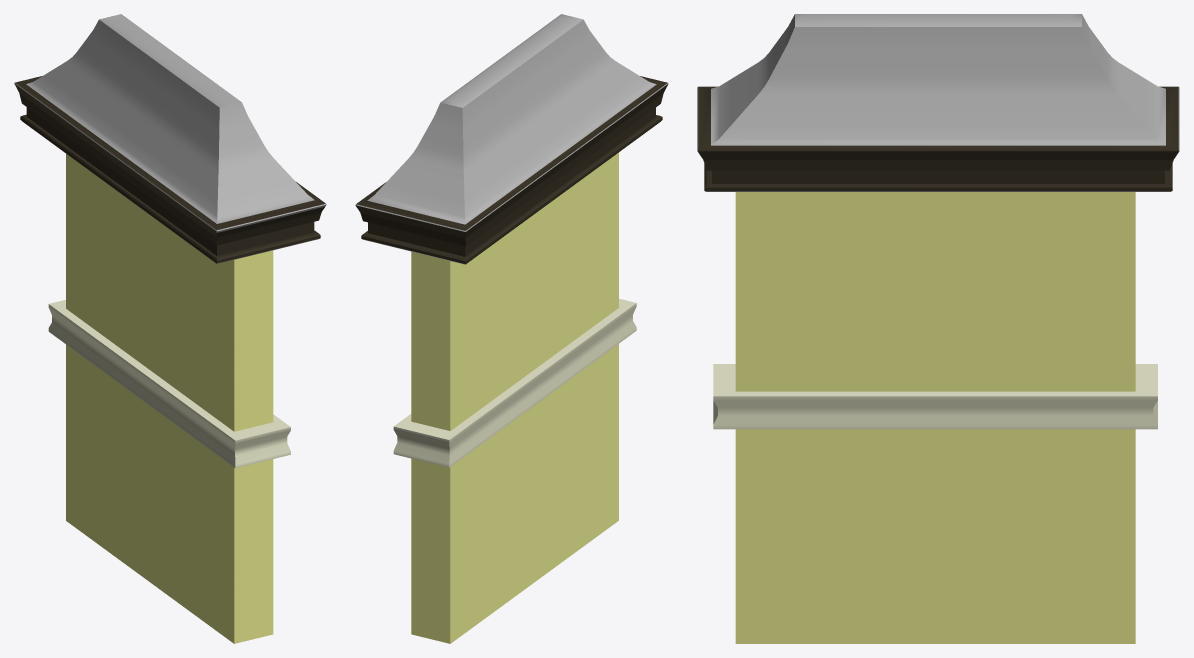
The model's file is wwr house 2.fbx.
The picture shows the model from 3 angles, left to right: view 1: azimuth 30°, elevation 25°; view 2: azimuth 150°, elevation 25°; view 3: azimuth 270°, elevation 25°; orthographic projection. The views are drawn at different scales.
Visible parts, largest first — view 1: building1, roof; view 2: building1, roof; view 3: building1, roof.
Part boxes in pixels (box(x1,y1,x2,y2)): building1: box(48, 154, 290, 643); roof: box(14, 14, 326, 263); building1: box(393, 152, 636, 643); roof: box(355, 14, 668, 264); building1: box(713, 192, 1157, 643); roof: box(697, 14, 1179, 191).
Size of the model in its own units: 10.34 by 46.41 by 32.94.
